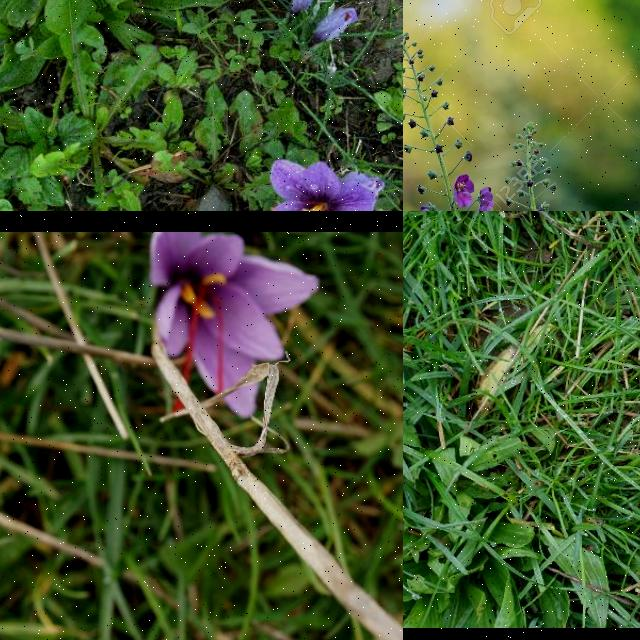flower: (152, 232, 320, 418), (260, 158, 375, 211), (314, 8, 360, 40)
overlap: (277, 0, 324, 15)
